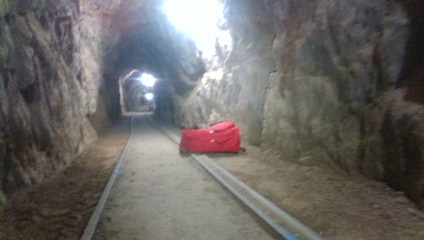backpack: (178, 121, 242, 154)
